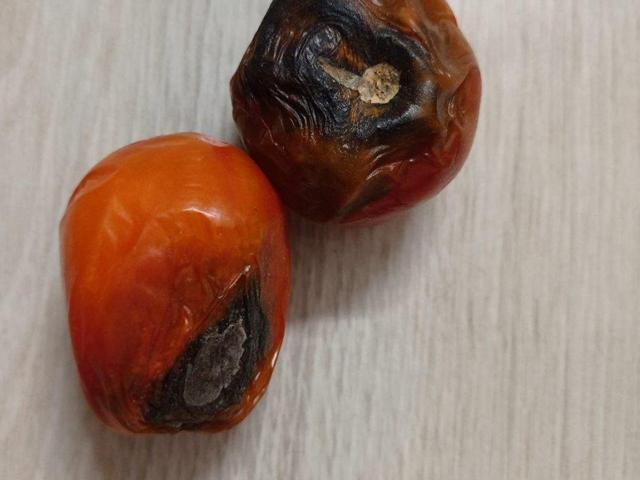defect: (57, 130, 292, 437), (226, 0, 484, 226)
